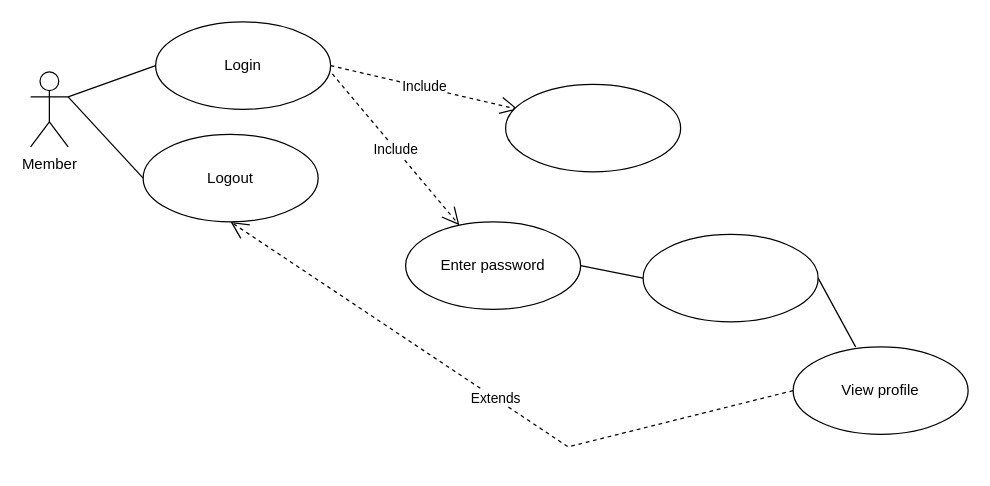
Image size: 990x486. Some labels were removed from this diagram. Each missing label, with the centre of its shape:
Enter username: the point at 592,127
Loading to homepage: the point at 730,277
